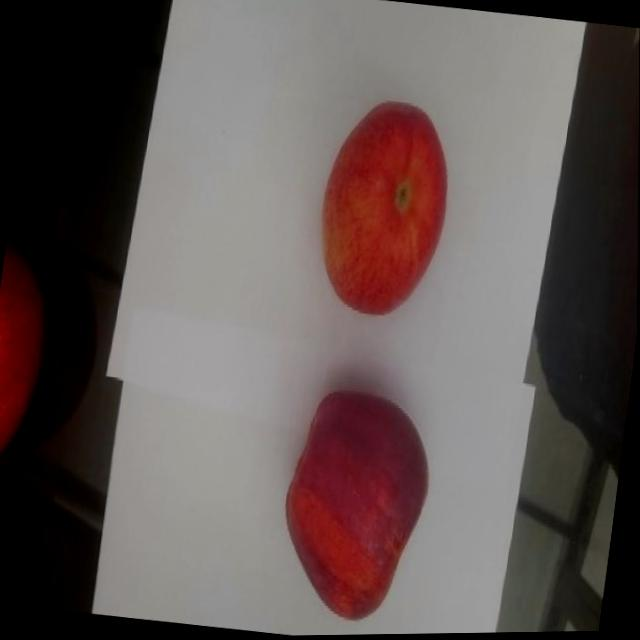Apple: (271, 384, 440, 630), (309, 95, 458, 326), (0, 243, 57, 487)
